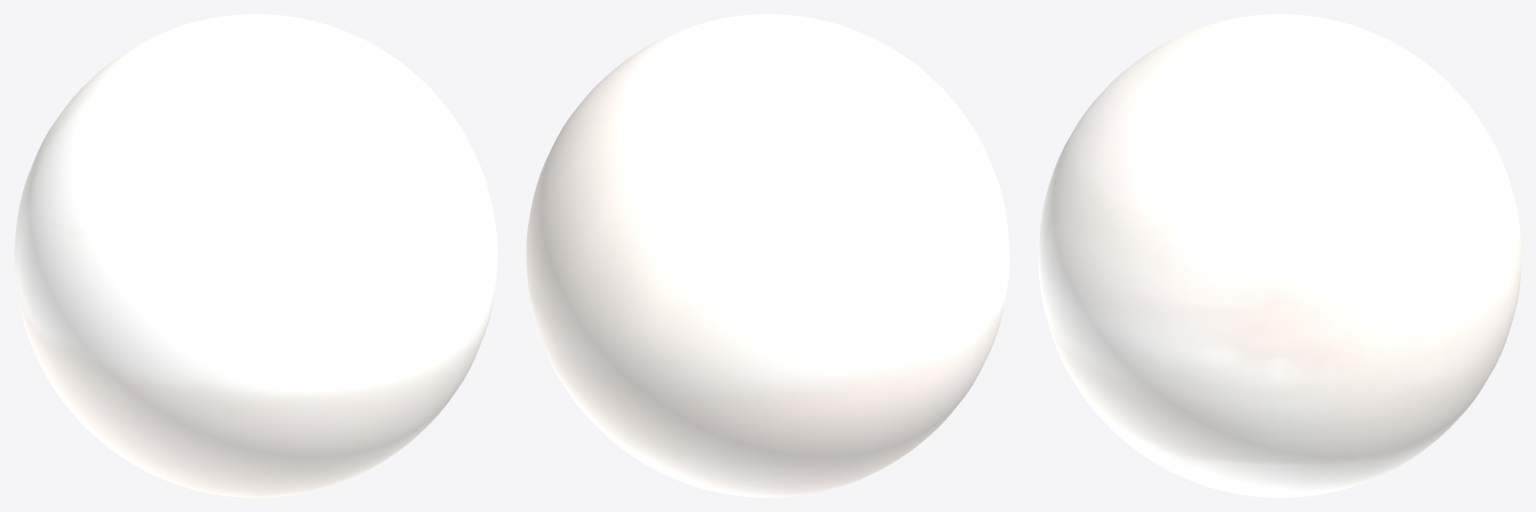
Rendered from pearl.glb.
3 renders of one model, left to right at view 1: azimuth 30°, elevation 25°; view 2: azimuth 150°, elevation 25°; view 3: azimuth 270°, elevation 25°, orthographic.
Parts seen in each view (by area): view 1: Sphere_1; view 2: Sphere_1; view 3: Sphere_1.
Part boxes in pixels (<box>): Sphere_1: <box>14,14,497,497</box>; Sphere_1: <box>526,14,1009,497</box>; Sphere_1: <box>1038,14,1521,497</box>.
Bounding box in the file's own units: 2.54 × 2.54 × 2.53.
Materials: 1 (1 with a texture image).
